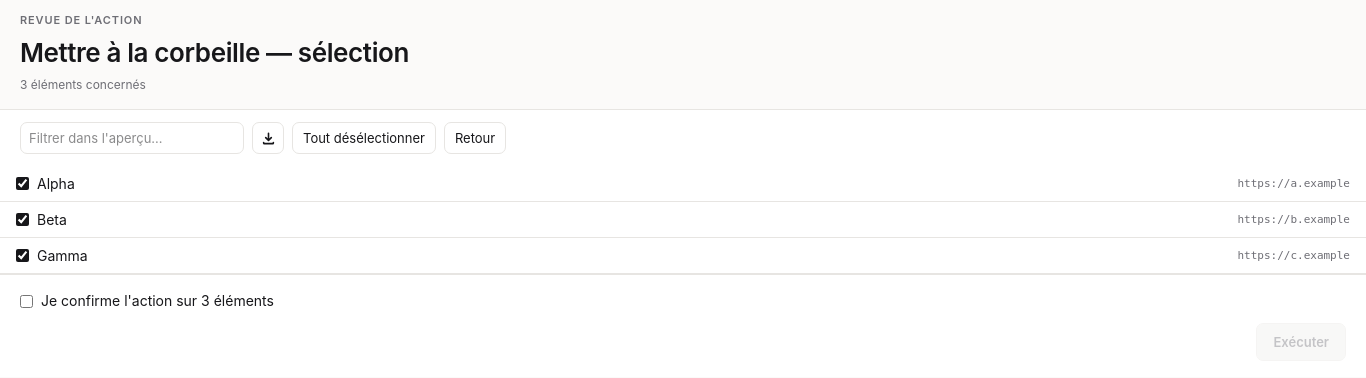
Test: ReviewPage — niveau 1 (corbeille) › le bouton est inactif avant la case de confirmation (niveau 1)
expect the button "Exécuter" is disabled: met, box [1256,323,1346,361]
Click the checkbox labelled "Je confirme l'action sur 3 éléments": (26, 301) [20,294,33,308]
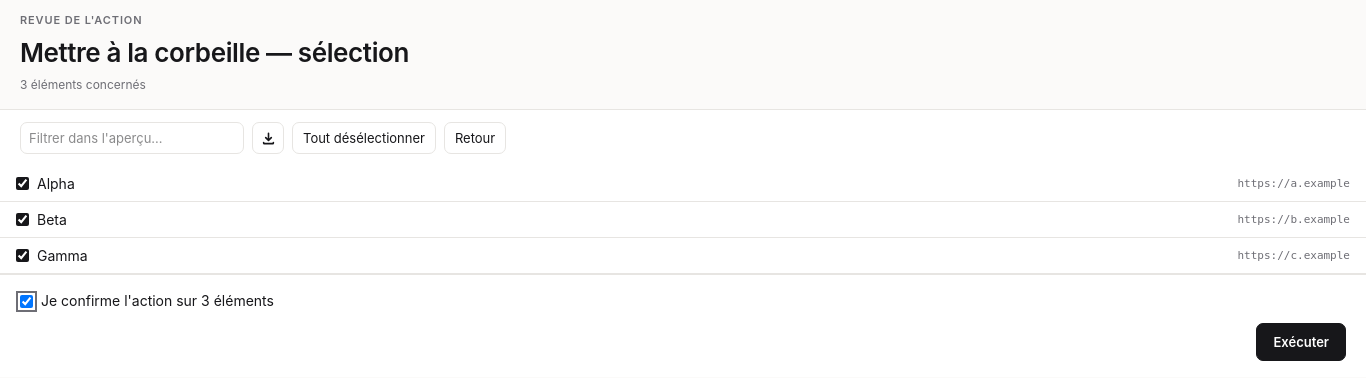
expect the button "Exécuter" is enabled: met, box [1256,323,1346,361]
